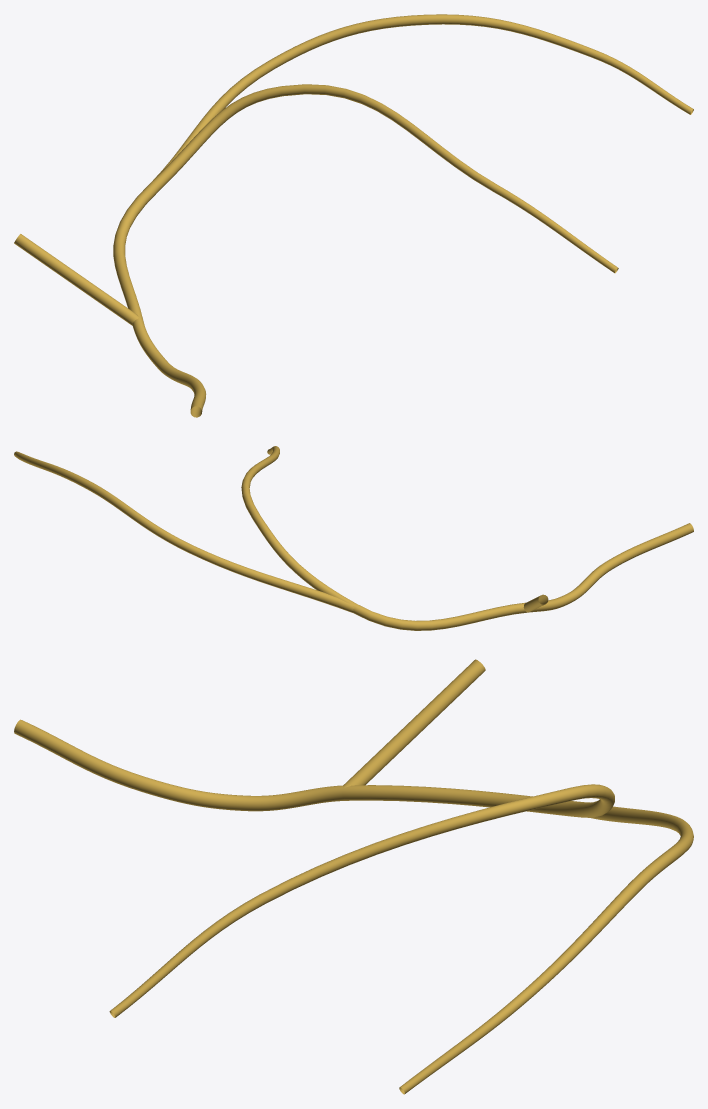
3 renders of one model, top to bottom at view 1: azimuth 30°, elevation 25°; view 2: azimuth 150°, elevation 25°; view 3: azimuth 270°, elevation 25°, orthographic. The views are drawn at different scales.
Visible parts, largest first — view 1: 左侧臀上神经; view 2: 左侧臀上神经; view 3: 左侧臀上神经.
Boxes of the visible parts, x1,y1,x2,y2 form: 左侧臀上神经: (14, 14, 693, 417); 左侧臀上神经: (14, 446, 693, 630); 左侧臀上神经: (14, 659, 693, 1094).
Bounding box in the file's own units: 0.1302 × 0.0282 × 0.0895.
